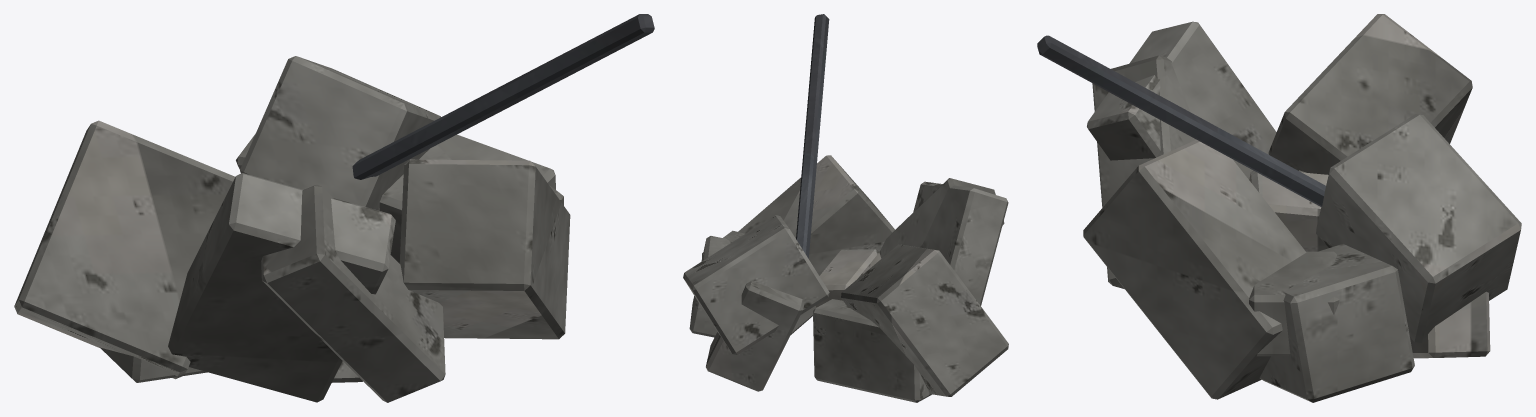
Rendered from rubble.glb.
3 renders of one model, left to right at view 1: azimuth 30°, elevation 25°; view 2: azimuth 150°, elevation 25°; view 3: azimuth 270°, elevation 25°, orthographic. The views are drawn at different scales.
Visible parts, largest first — view 1: body; view 2: body; view 3: body.
Part boxes in pixels (box(x1,y1,x2,y2)): body: box(14, 14, 654, 402); body: box(683, 14, 1008, 402); body: box(1037, 14, 1521, 402).
Size of the model in its own units: 1.21 by 0.9254 by 1.07.
Materials: 2 (2 with a texture image).
